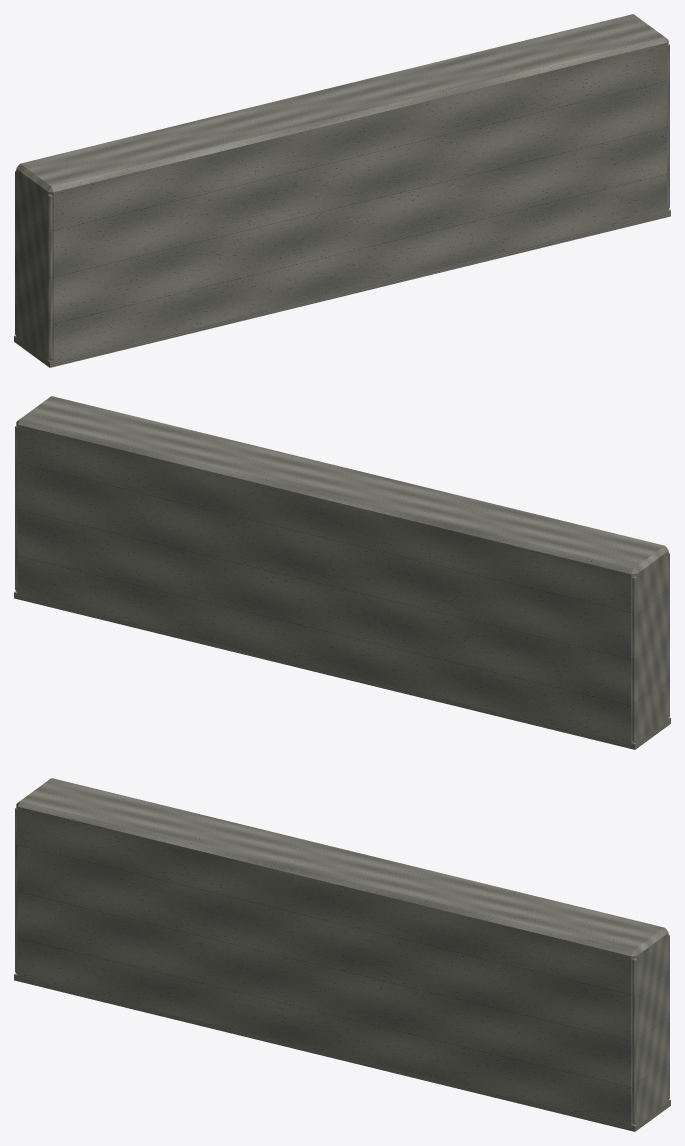
Rendered from low_cover.glb.
3 views of the same model, one above another, from view 1: azimuth 30°, elevation 25°; view 2: azimuth 150°, elevation 25°; view 3: azimuth 330°, elevation 25° (orthographic).
Visible parts, largest first — view 1: low_cover; view 2: low_cover; view 3: low_cover.
Boxes of the visible parts, x1,y1,x2,y2 form: low_cover: [14, 14, 670, 367]; low_cover: [14, 396, 670, 749]; low_cover: [14, 778, 670, 1131].
Size of the model in its own units: 4 by 1.1 by 0.4.
1 material, 1 textured.
